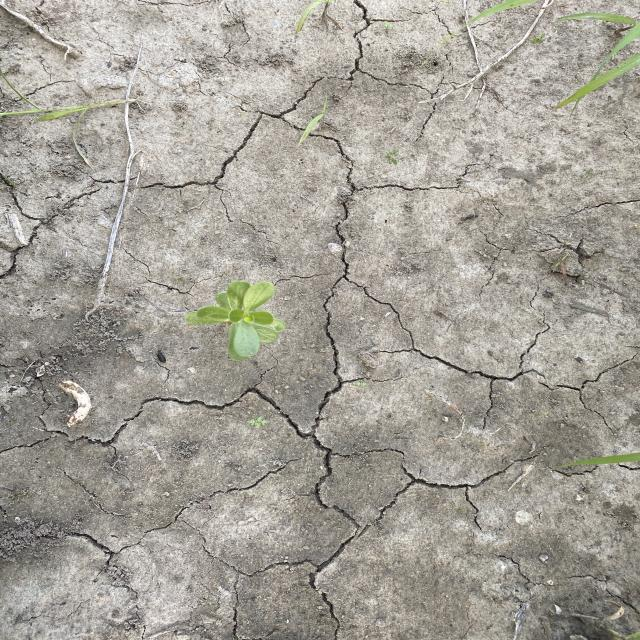Purslane: (180, 280, 290, 363)
